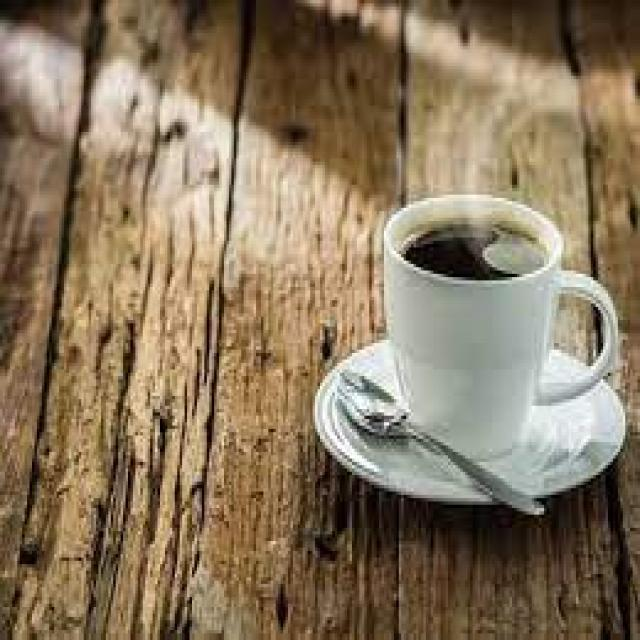cup: (362, 193, 598, 455)
